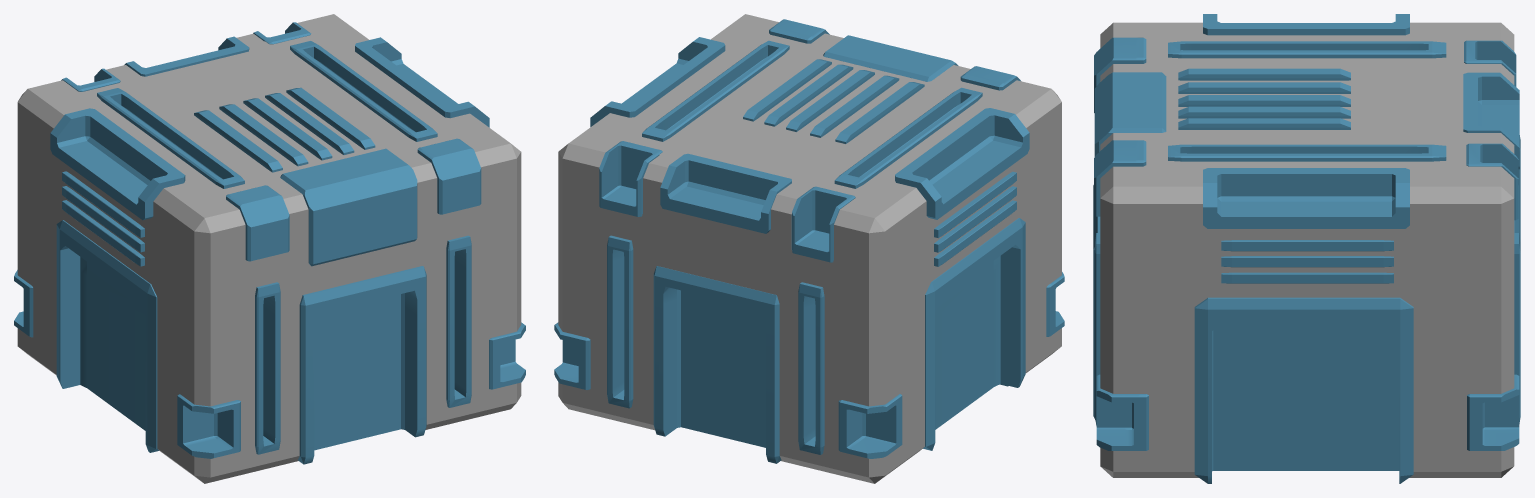
The model's file is case sci fi.fbx.
3 views of the same model, side by side, from view 1: azimuth 30°, elevation 25°; view 2: azimuth 150°, elevation 25°; view 3: azimuth 270°, elevation 25° (orthographic). The views are drawn at different scales.
Visible parts, largest first — view 1: pCube149; view 2: pCube149; view 3: pCube149.
Part boxes in pixels (x1,y1,x2,y2): pCube149: [14, 14, 525, 483]; pCube149: [554, 14, 1064, 483]; pCube149: [1093, 14, 1520, 483].
Size of the model in its own units: 6.08 by 4.58 by 5.95.
